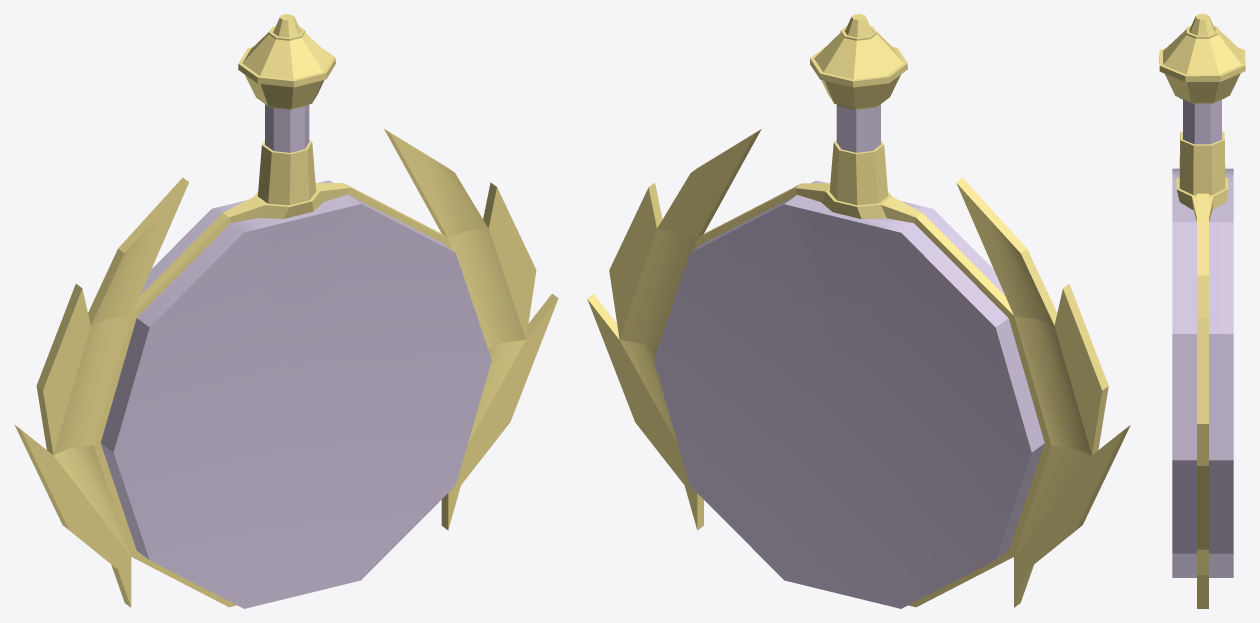
Rendered from fiole_01.fbx.
3 views of the same model, side by side, from view 1: azimuth 30°, elevation 25°; view 2: azimuth 150°, elevation 25°; view 3: azimuth 270°, elevation 25° (orthographic). The views are drawn at different scales.
Parts seen in each view (by area): view 1: fiole_01:fiole; view 2: fiole_01:fiole; view 3: fiole_01:fiole.
Part boxes in pixels (<box>): fiole_01:fiole: <box>14,14,558,608</box>; fiole_01:fiole: <box>587,14,1130,608</box>; fiole_01:fiole: <box>1159,14,1245,608</box>.
Bounding box in the file's own units: 2.17 × 2.21 × 0.3202.
